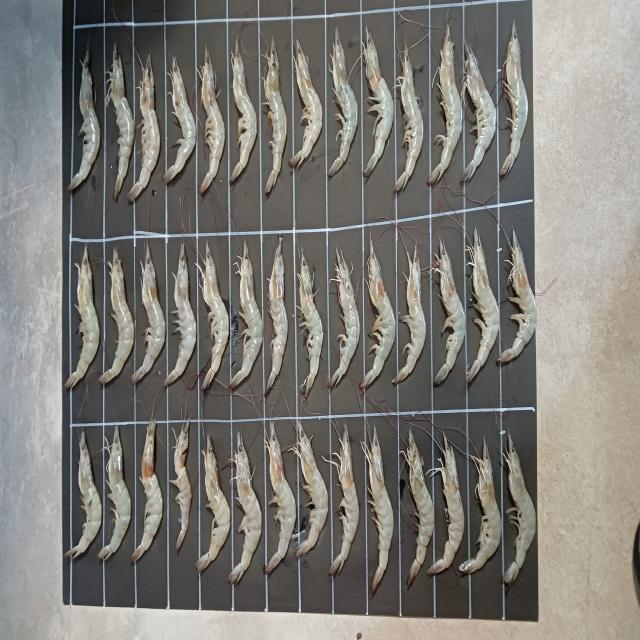shrimp: (459, 438, 501, 573), (361, 427, 394, 595), (428, 24, 462, 186), (359, 239, 396, 387), (498, 228, 538, 363), (402, 429, 435, 589), (502, 432, 536, 587), (428, 434, 465, 576), (290, 423, 328, 558), (466, 228, 499, 383), (460, 42, 496, 184), (228, 432, 261, 584), (432, 239, 466, 385), (65, 246, 100, 387), (229, 241, 262, 390), (196, 243, 229, 392), (195, 434, 230, 573), (128, 53, 160, 204), (131, 246, 166, 383), (99, 248, 134, 385), (64, 432, 102, 558), (68, 44, 100, 193), (392, 246, 426, 385), (130, 416, 162, 562), (265, 423, 296, 573), (106, 42, 135, 201), (164, 243, 196, 387), (329, 425, 359, 576), (364, 29, 394, 177), (328, 29, 358, 177), (394, 46, 424, 193), (98, 425, 131, 558), (500, 22, 528, 177), (329, 248, 360, 387), (162, 58, 196, 184), (289, 40, 322, 168), (298, 248, 324, 398), (199, 46, 225, 195), (230, 40, 256, 184), (265, 237, 288, 396), (264, 38, 286, 195), (170, 421, 191, 551)
